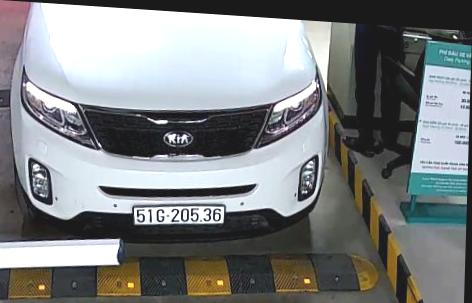License_Plate: (129, 198, 226, 231)
